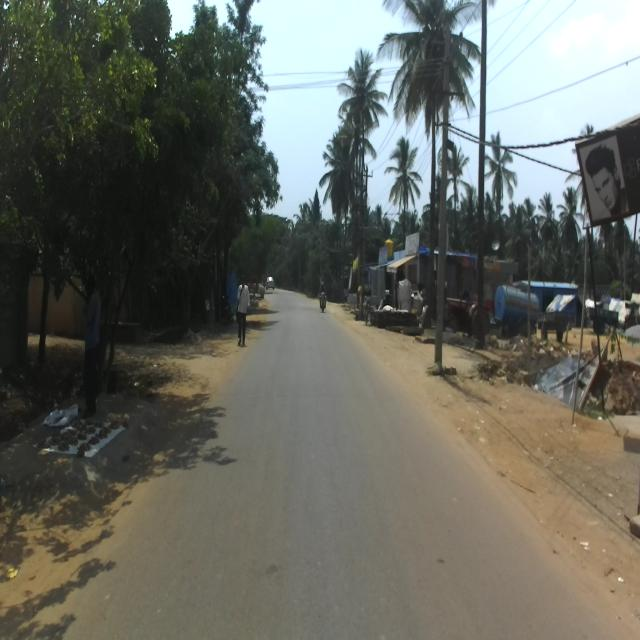person ahead at: (77, 277, 108, 413), (230, 275, 254, 360)
